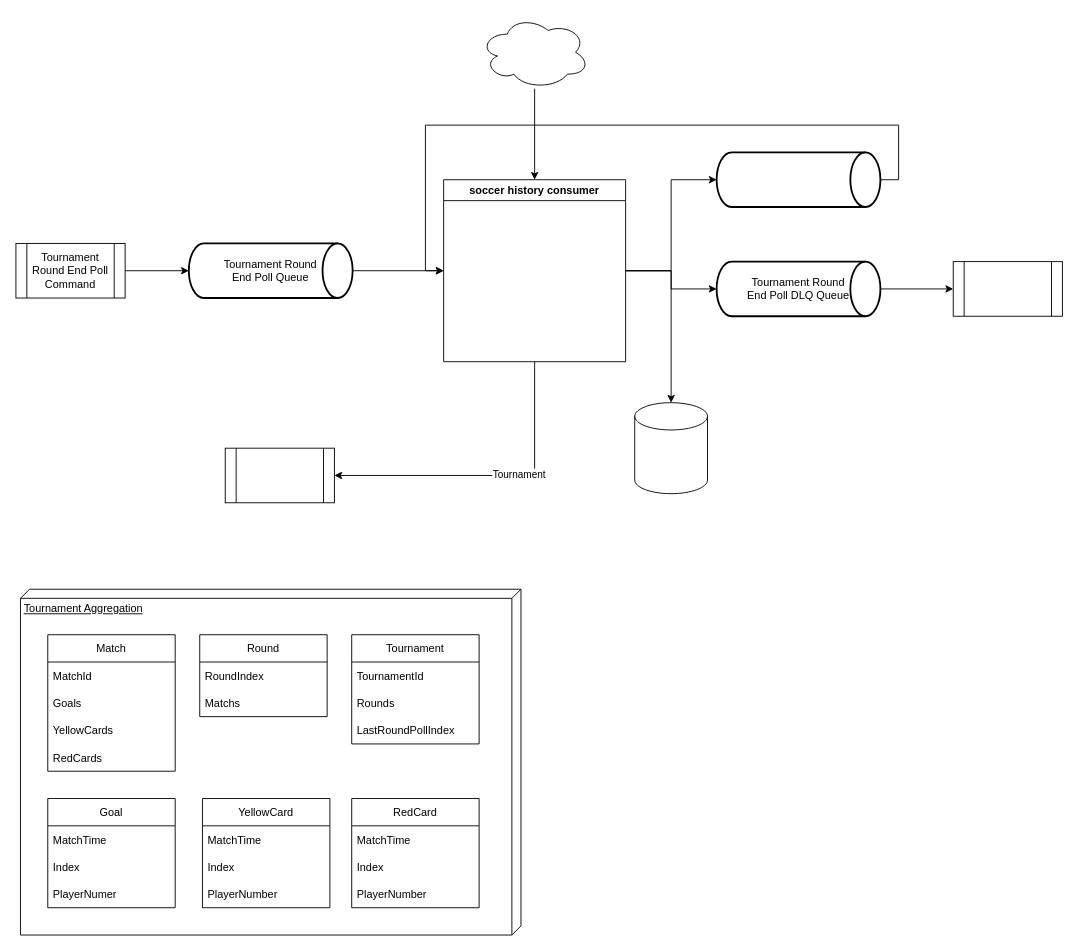
The diagram is 1078 pixels wide and 951 high, and some of its shapes have lost their labels. Here are the shapes that lost their labels. From the top down, the centre of each, then its label:
At point 534,52: "soccer history api".
At point 798,179: "Tournament Round End Poll Retry Queue".
At point 1007,288: "DLQ Notification Event".
At point 671,448: "Tournament Repository".
At point 279,475: "Tournament Round End Poll Event".
